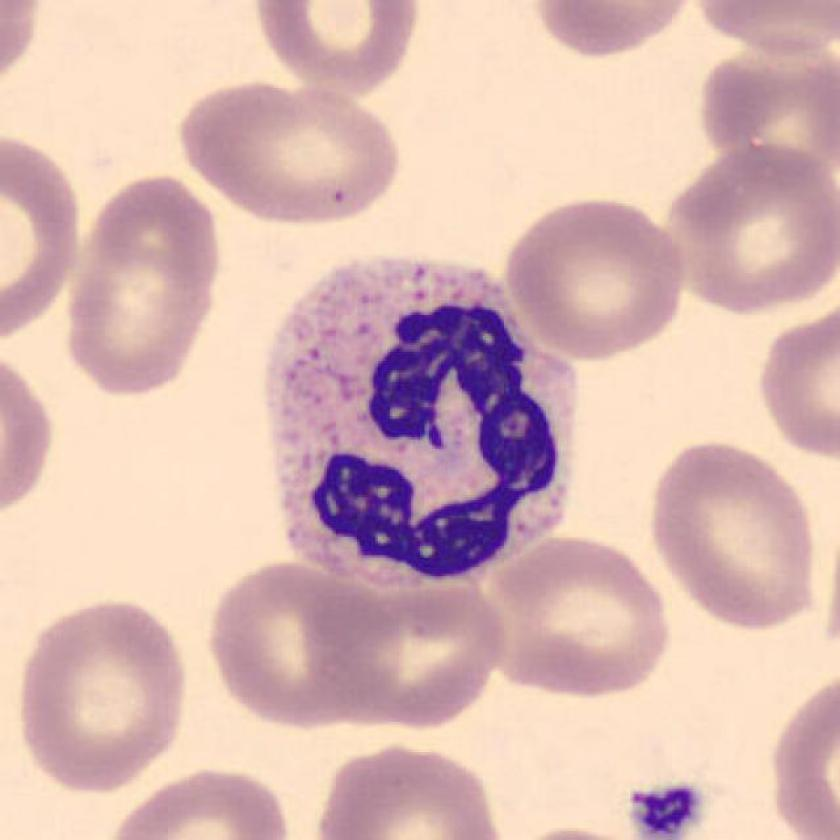neutrophil: (264, 258, 579, 584)
